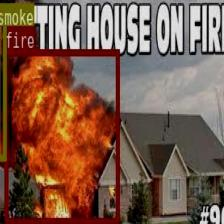fire: (4, 49, 118, 223)
smoke: (0, 2, 5, 159)
